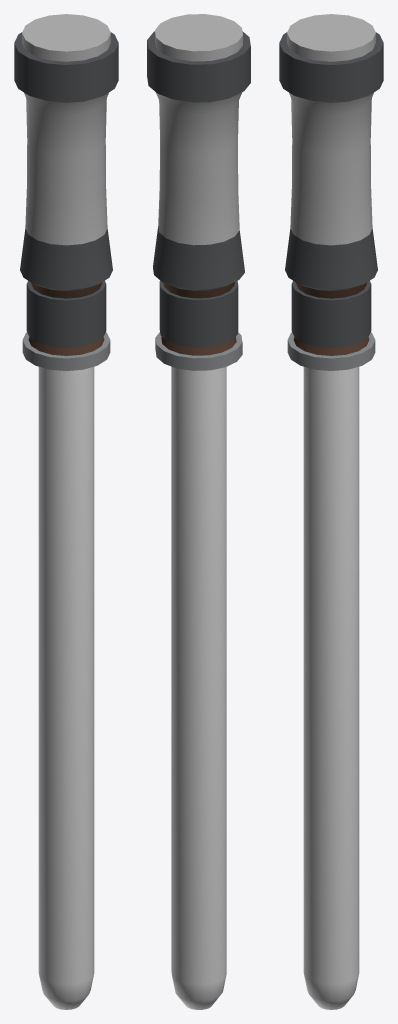
File: Cutter_lightsaber.001.fbx
3 views of the same model, side by side, from view 1: azimuth 90°, elevation 25°; view 2: azimuth 150°, elevation 25°; view 3: azimuth 270°, elevation 25° (orthographic).
Visible parts, largest first — view 1: Cutter_lightsaber.001; view 2: Cutter_lightsaber.001; view 3: Cutter_lightsaber.001.
Part boxes in pixels (x1,y1,x2,y2): Cutter_lightsaber.001: (14,14,118,1009); Cutter_lightsaber.001: (147,14,250,1009); Cutter_lightsaber.001: (279,14,383,1009).
Size of the model in its own units: 0.6311 by 6.5 by 0.6311.
